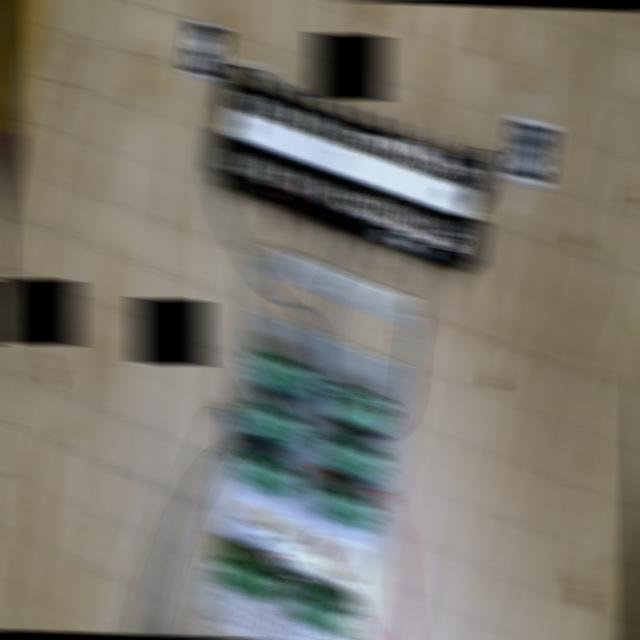Phillips_Block: (190, 57, 514, 262)
Terminal_1: (210, 544, 290, 606), (279, 580, 359, 639)
Terminal_2: (305, 476, 383, 534), (313, 427, 390, 484), (227, 444, 302, 501), (244, 344, 318, 399), (237, 395, 309, 448)
